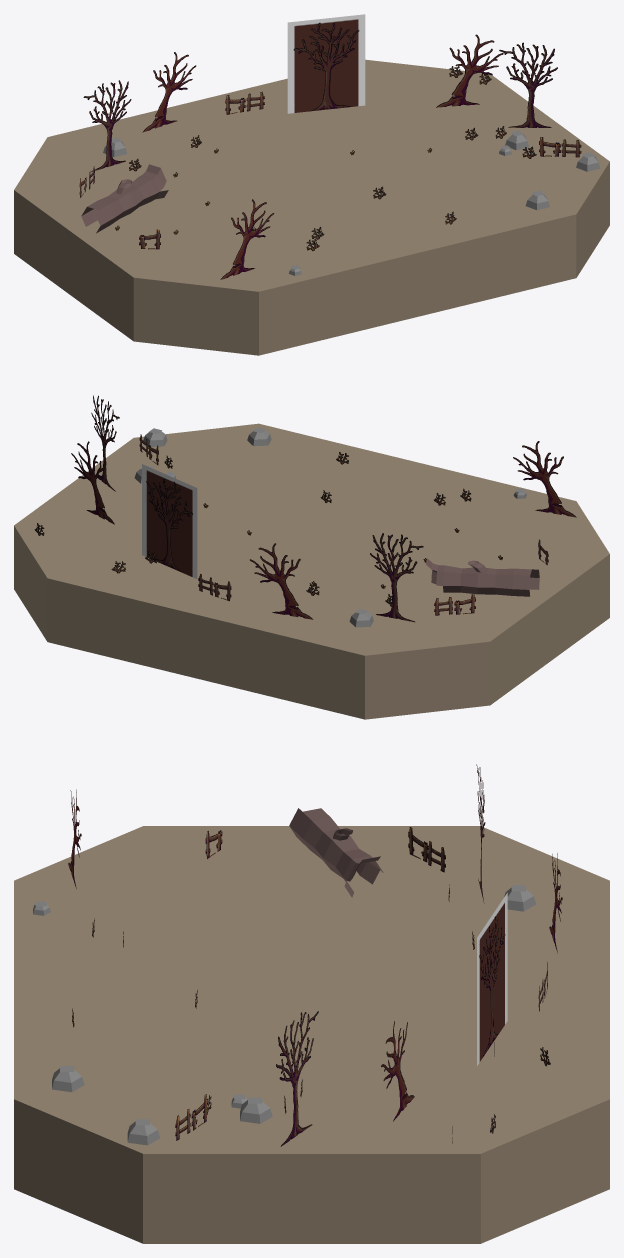
File: Nivel01.fbx
The picture shows the model from 3 angles, top to bottom: view 1: azimuth 30°, elevation 25°; view 2: azimuth 150°, elevation 25°; view 3: azimuth 270°, elevation 25°; orthographic projection. The views are drawn at different scales.
Visible parts, largest first — view 1: Base 0-1, ARBOL2BOSQUE.001, T 2.002, ARBOL1.003, Arbol_roto.002, ARBOL1.001, Arbol_roto, Arbol_roto.001; view 2: Base 0-1, ARBOL2BOSQUE.001, T 2.002, ARBOL1.001, Arbol_roto, Arbol_roto.001, Arbol_roto.002, ARBOL1.003; view 3: Base 0-1, ARBOL2BOSQUE.001, T 2.002, ARBOL1.003, Arbol_roto.002, R.B. Mediana.006, R.B. Mediana.005, R.B. Mediana.004.
Boxes of the visible parts, box(x1,y1,x2,y2) form: Base 0-1: box(14, 59, 609, 355); ARBOL2BOSQUE.001: box(287, 14, 365, 113); T 2.002: box(81, 164, 168, 233); ARBOL1.003: box(499, 42, 557, 127); Arbol_roto.002: box(436, 34, 503, 107); ARBOL1.001: box(83, 80, 131, 171); Arbol_roto: box(142, 52, 196, 132); Arbol_roto.001: box(220, 199, 274, 279); Base 0-1: box(14, 423, 609, 719); ARBOL2BOSQUE.001: box(142, 464, 197, 578); T 2.002: box(426, 558, 539, 596); ARBOL1.001: box(370, 533, 423, 622); Arbol_roto: box(250, 543, 313, 619); Arbol_roto.001: box(513, 441, 576, 517); Arbol_roto.002: box(71, 441, 114, 524); ARBOL1.003: box(91, 395, 119, 491); Base 0-1: box(14, 826, 609, 1243); ARBOL2BOSQUE.001: box(477, 893, 507, 1065); T 2.002: box(289, 808, 383, 897); ARBOL1.003: box(276, 1011, 318, 1146); Arbol_roto.002: box(381, 1021, 414, 1121); R.B. Mediana.006: box(240, 1097, 272, 1123); R.B. Mediana.005: box(127, 1119, 160, 1145); R.B. Mediana.004: box(52, 1066, 84, 1092).
Bounding box in the file's own units: 1568 × 486 × 1200.
Materials: 43 (36 with a texture image).
